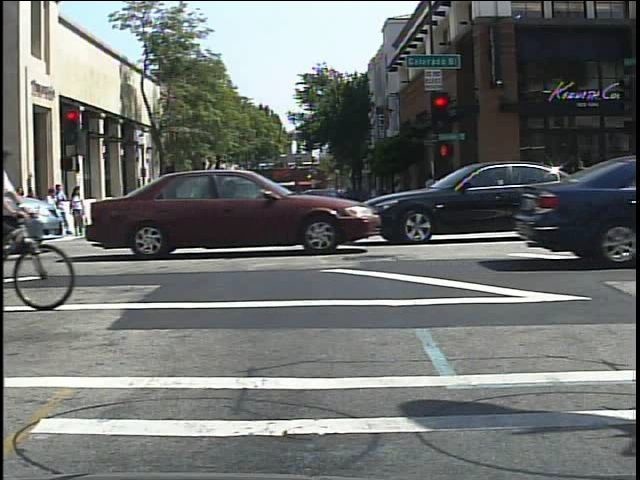person: (593, 157, 619, 222)
